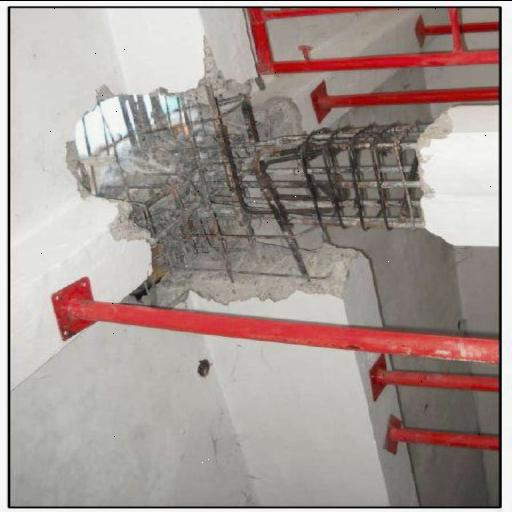spalling: (161, 111, 431, 251)
